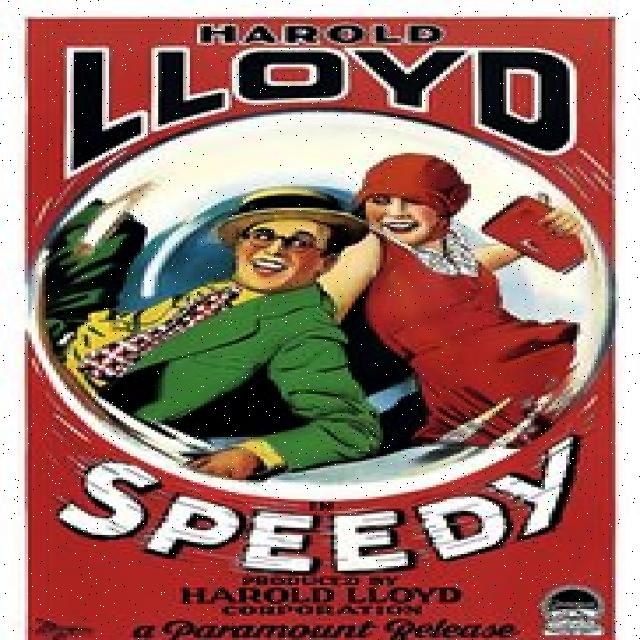movie-judul: (41, 438, 610, 576)
picture: (65, 162, 612, 410)
